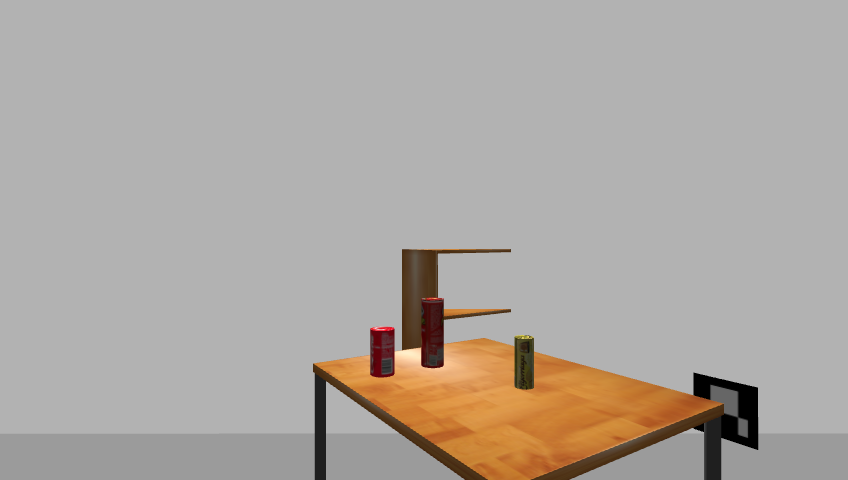aruco marker: (687, 371, 764, 451)
biscuits pack: (513, 335, 535, 391)
bookshelf: (397, 244, 517, 403)
coke can: (369, 326, 396, 378)
dinner table: (304, 338, 730, 479)
pringles can: (419, 298, 446, 370)
